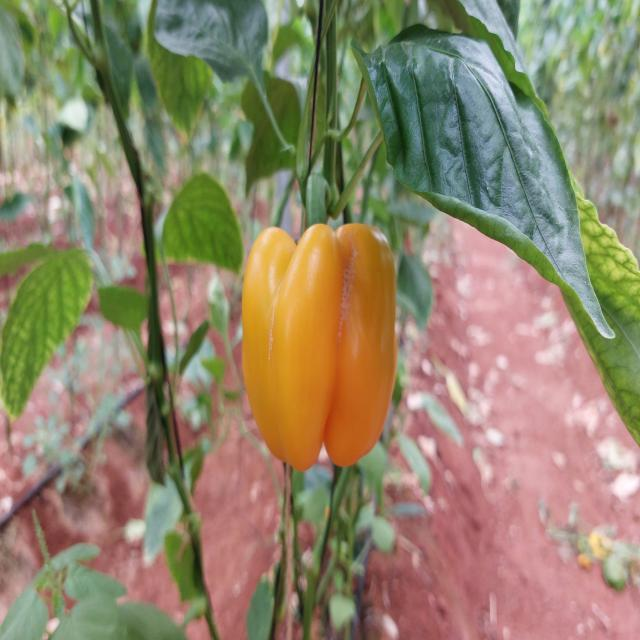Yellow-Ready-to-Harvest: (240, 213, 401, 470)
